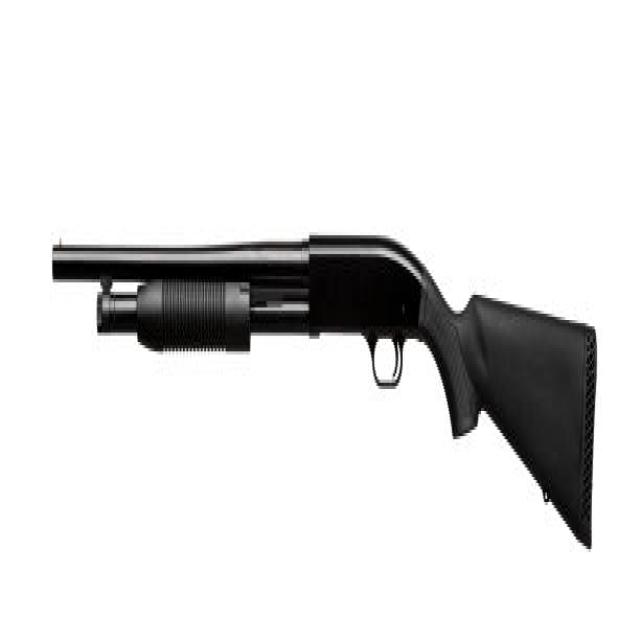rifle: (54, 219, 602, 553)
